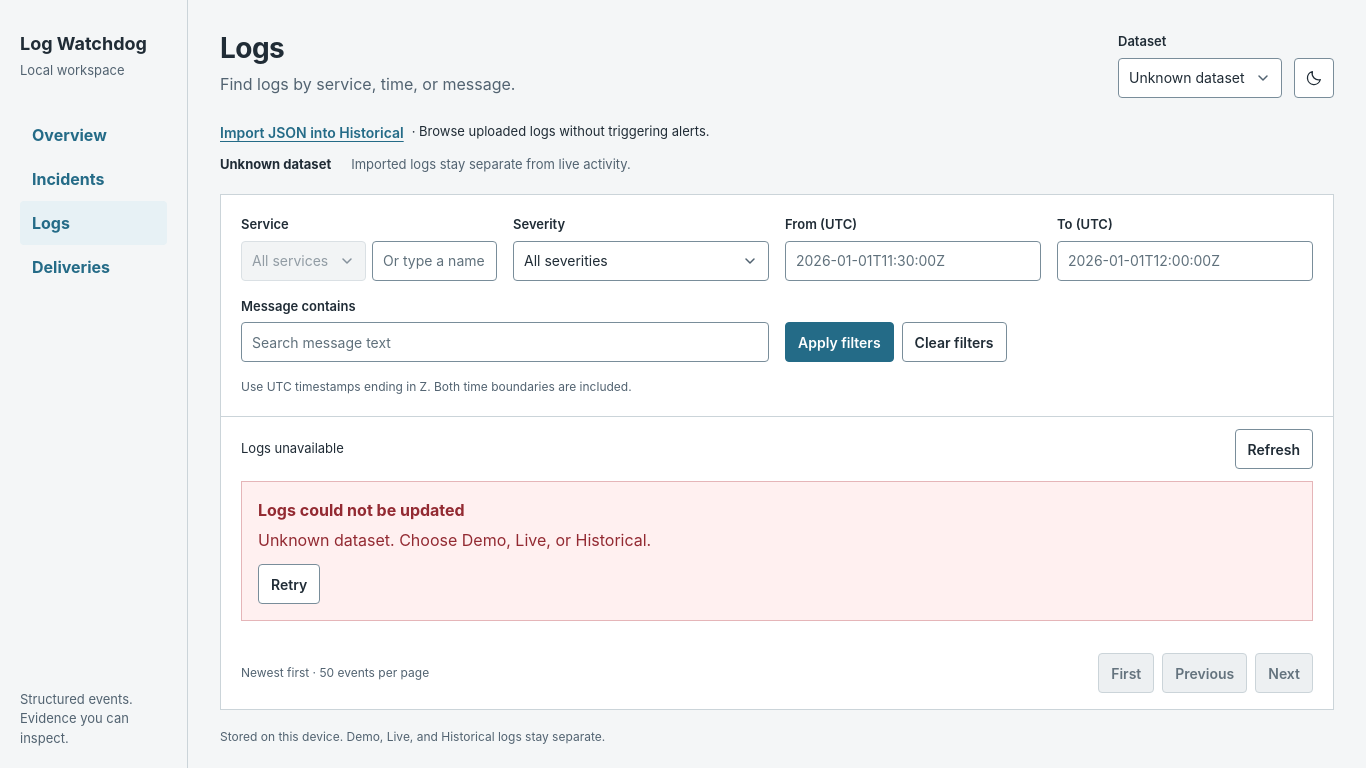
Test: log explorer › rejects malformed URL filters: ?dataset=unknown
The image size is (1366, 768).
Expected: the message that starts with "Logs could not be updated" is shown, [241,481,1313,621]
Click the button "Clear filters".
click(954, 342)  # box [902,322,1006,362]
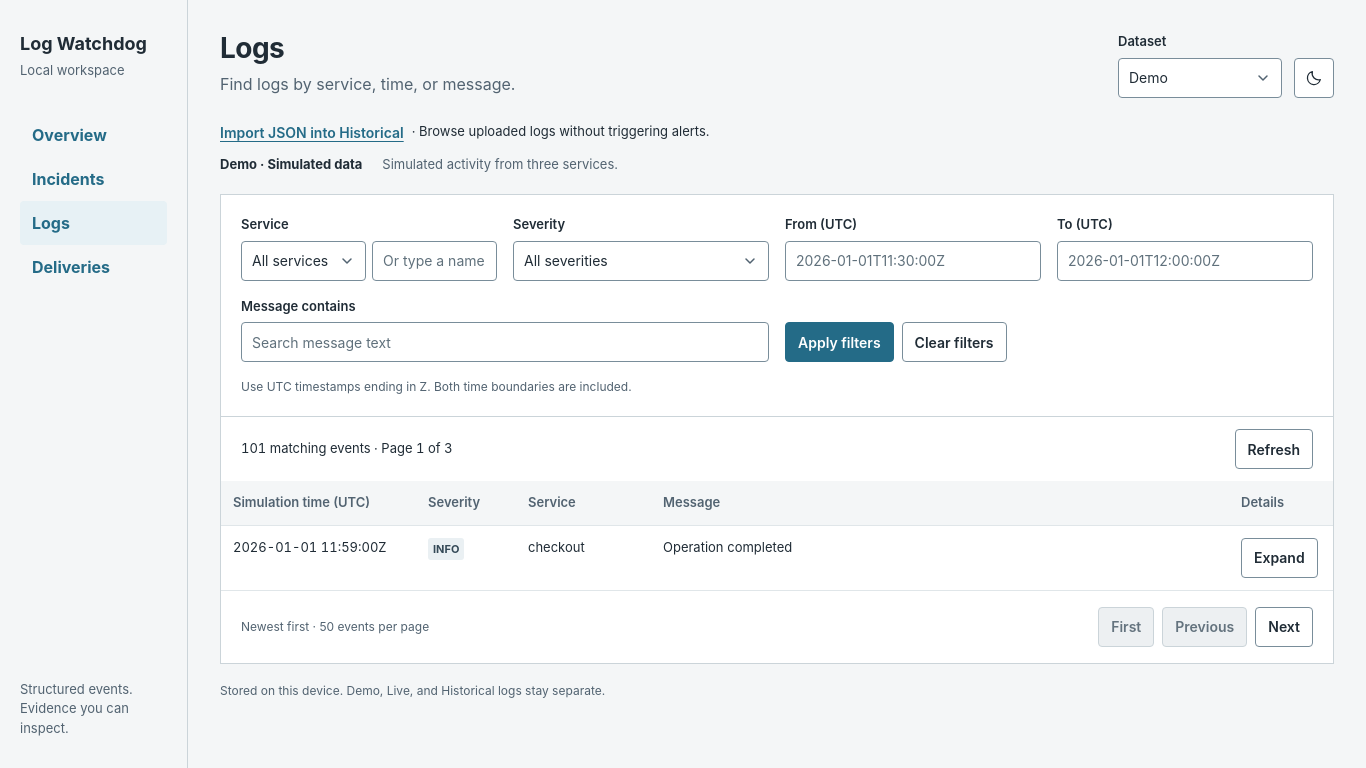
Result: the text "Operation completed" is shown at [663,538,792,554]
